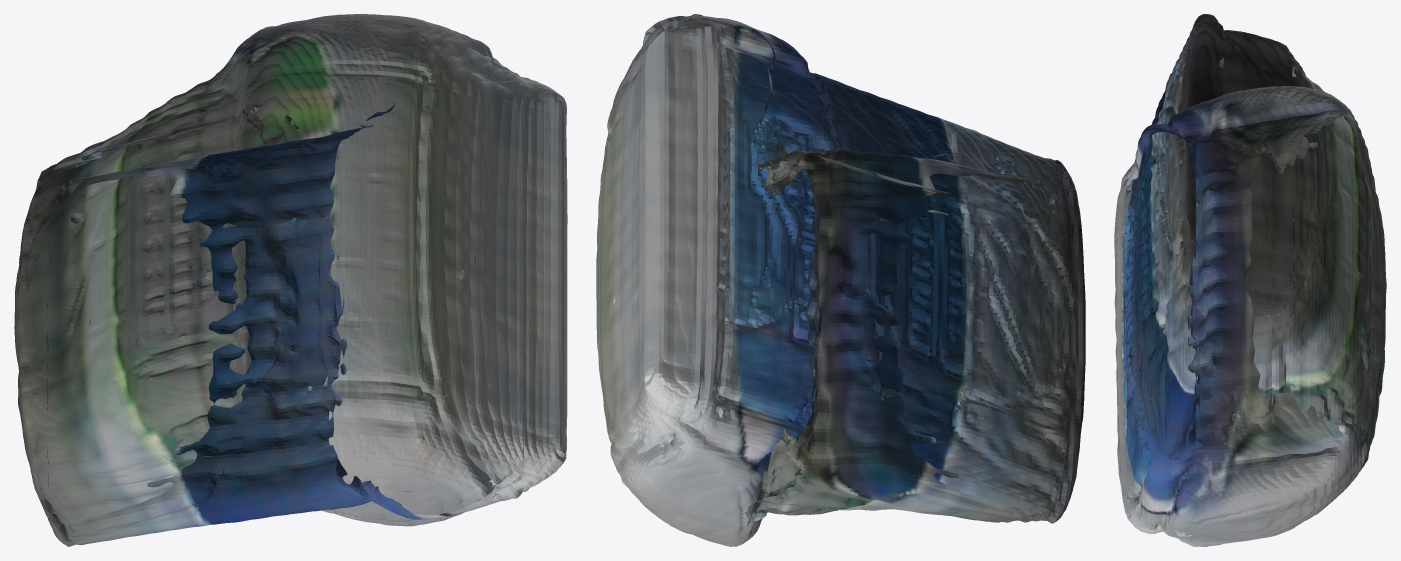
The model's file is dulux.glb.
The picture shows the model from 3 angles, left to right: view 1: azimuth 30°, elevation 25°; view 2: azimuth 150°, elevation 25°; view 3: azimuth 270°, elevation 25°; orthographic projection. The views are drawn at different scales.
Parts seen in each view (by area): view 1: mesh.obj; view 2: mesh.obj; view 3: mesh.obj.
Part boxes in pixels (x1=…): mesh.obj: x1=14, y1=14, x2=567, y2=546; mesh.obj: x1=596, y1=14, x2=1085, y2=546; mesh.obj: x1=1114, y1=14, x2=1386, y2=546.
Bounding box in the file's own units: 0.9601 × 0.917 × 0.5375.
